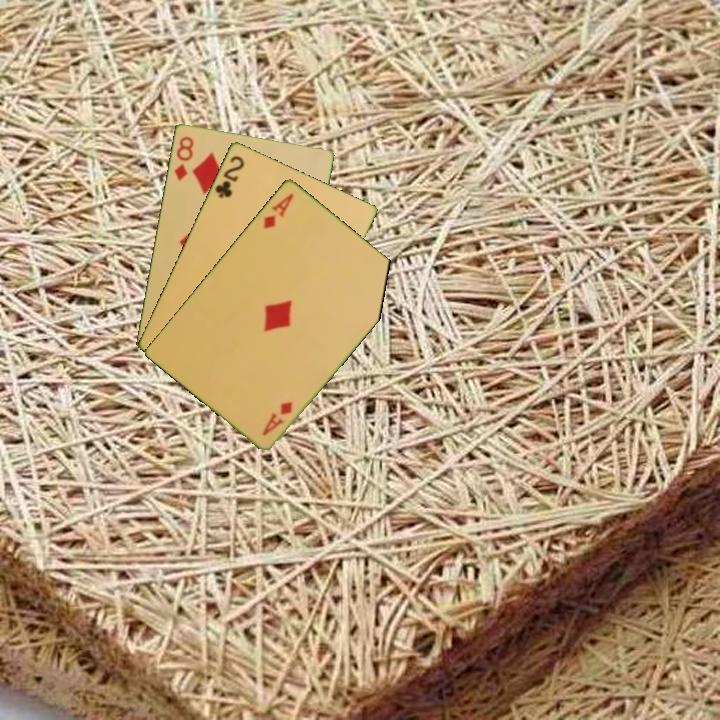2c: (211, 152, 247, 200)
8d: (170, 132, 196, 184)
Ad: (258, 397, 295, 438), (260, 189, 296, 231)
